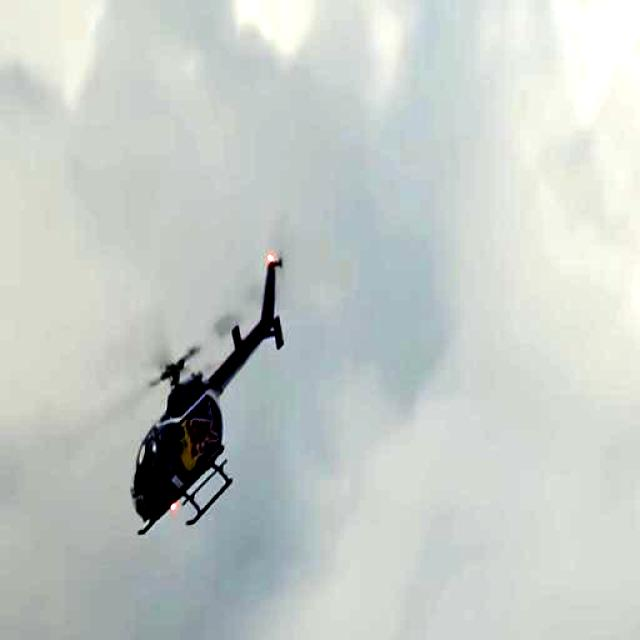drone: (111, 235, 295, 566)
